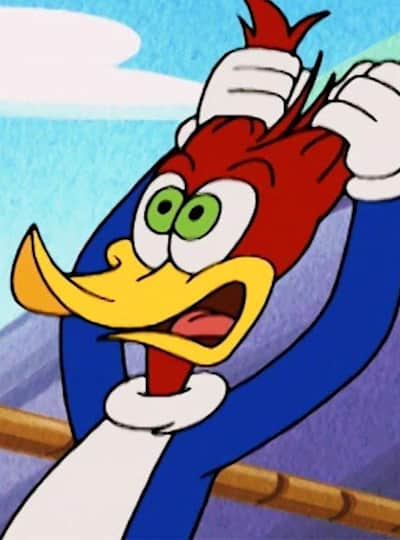picapau: (3, 3, 399, 540)
